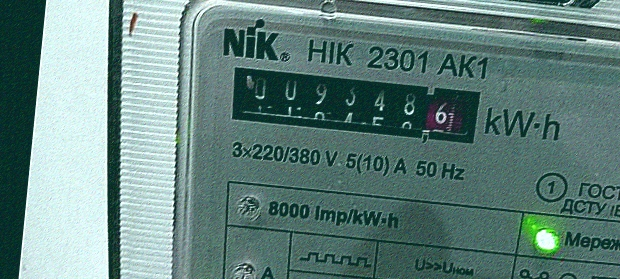0: (249, 73, 268, 101), (281, 73, 297, 101)
3: (341, 81, 358, 107)
4: (368, 81, 389, 113)
6: (430, 95, 450, 126)
8: (400, 87, 417, 117)
9: (311, 80, 328, 108)
screen: (209, 50, 494, 155)
